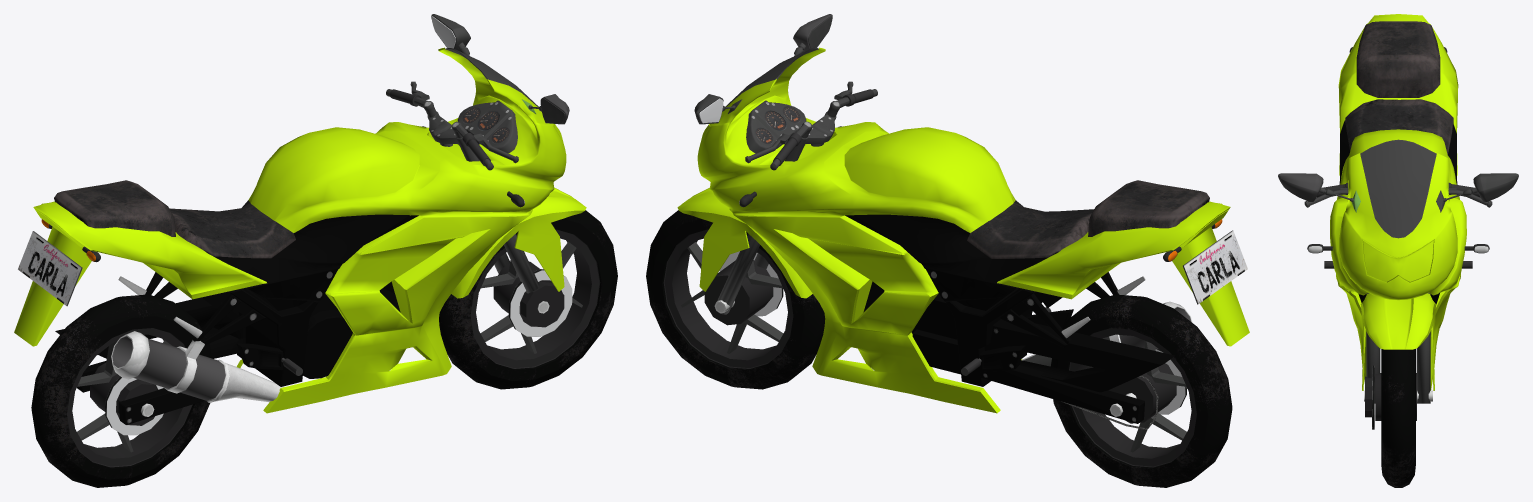
The model's file is vehicle_motorcycle_kawasaki_ninja.glb.
The picture shows the model from 3 angles, left to right: view 1: azimuth 30°, elevation 25°; view 2: azimuth 150°, elevation 25°; view 3: azimuth 270°, elevation 25°; orthographic projection. The views are drawn at different scales.
Parts seen in each view (by area): view 1: body, wheel_r, wheel_f, handlebar; view 2: body, wheel_r, wheel_f, handlebar; view 3: body, handlebar, wheel_f.
Boxes of the visible parts, x1=… form: body: x1=14, y1=14, x2=569, y2=424; wheel_r: x1=31, y1=294, x2=211, y2=487; wheel_f: x1=439, y1=210, x2=617, y2=389; handlebar: x1=386, y1=81, x2=586, y2=313; body: x1=694, y1=14, x2=1249, y2=429; wheel_r: x1=1050, y1=294, x2=1232, y2=487; wheel_f: x1=646, y1=210, x2=825, y2=389; handlebar: x1=677, y1=81, x2=877, y2=314; body: x1=1278, y1=14, x2=1518, y2=390; handlebar: x1=1304, y1=182, x2=1492, y2=403; wheel_f: x1=1365, y1=349, x2=1416, y2=487.
Size of the model in its own units: 2.03 by 1.15 by 0.8026.
5 materials, 4 textured.
